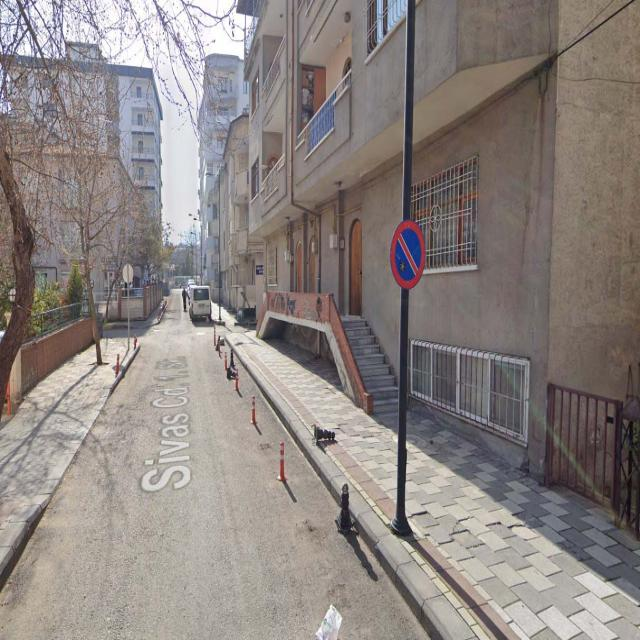parkyasak: (392, 220, 426, 291)
